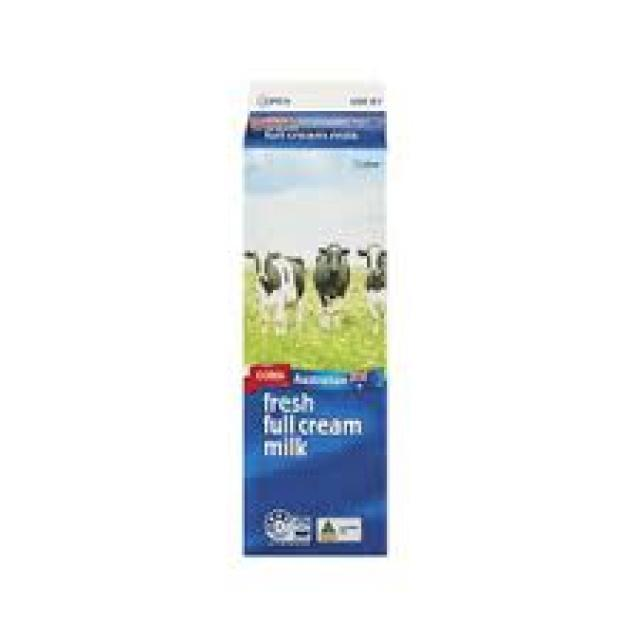non_white_jug: (214, 70, 416, 579)
